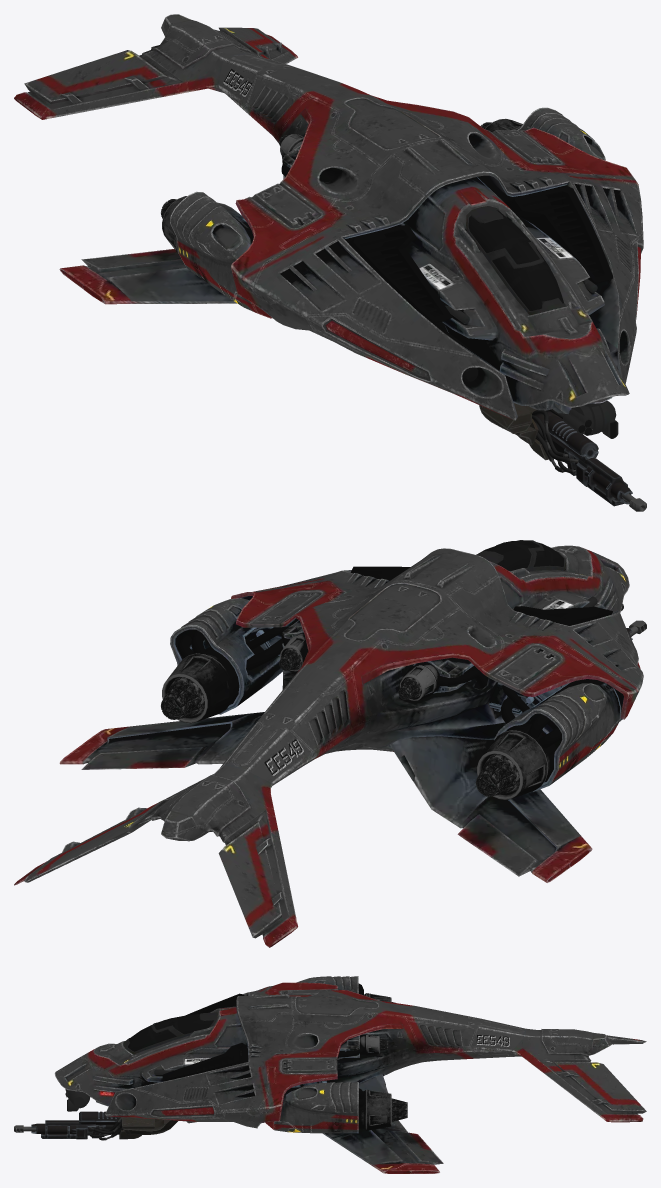
The model's file is S7-space-fighter.glb.
The picture shows the model from 3 angles, top to bottom: view 1: azimuth 30°, elevation 25°; view 2: azimuth 150°, elevation 25°; view 3: azimuth 270°, elevation 25°; orthographic projection. The views are drawn at different scales.
Visible parts, largest first — view 1: Object_4, Object_6, Object_8; view 2: Object_4; view 3: Object_4, Object_6, Object_8.
Part boxes in pixels (bbox=[...]): Object_4: bbox=[14, 14, 643, 438]; Object_6: bbox=[529, 409, 646, 511]; Object_8: bbox=[479, 403, 545, 445]; Object_4: bbox=[14, 540, 643, 947]; Object_4: bbox=[54, 976, 646, 1173]; Object_6: bbox=[14, 1111, 141, 1140]; Object_8: bbox=[122, 1117, 177, 1134].
Size of the model in its own units: 180 by 77.73 by 323.
2 materials, 2 textured.
